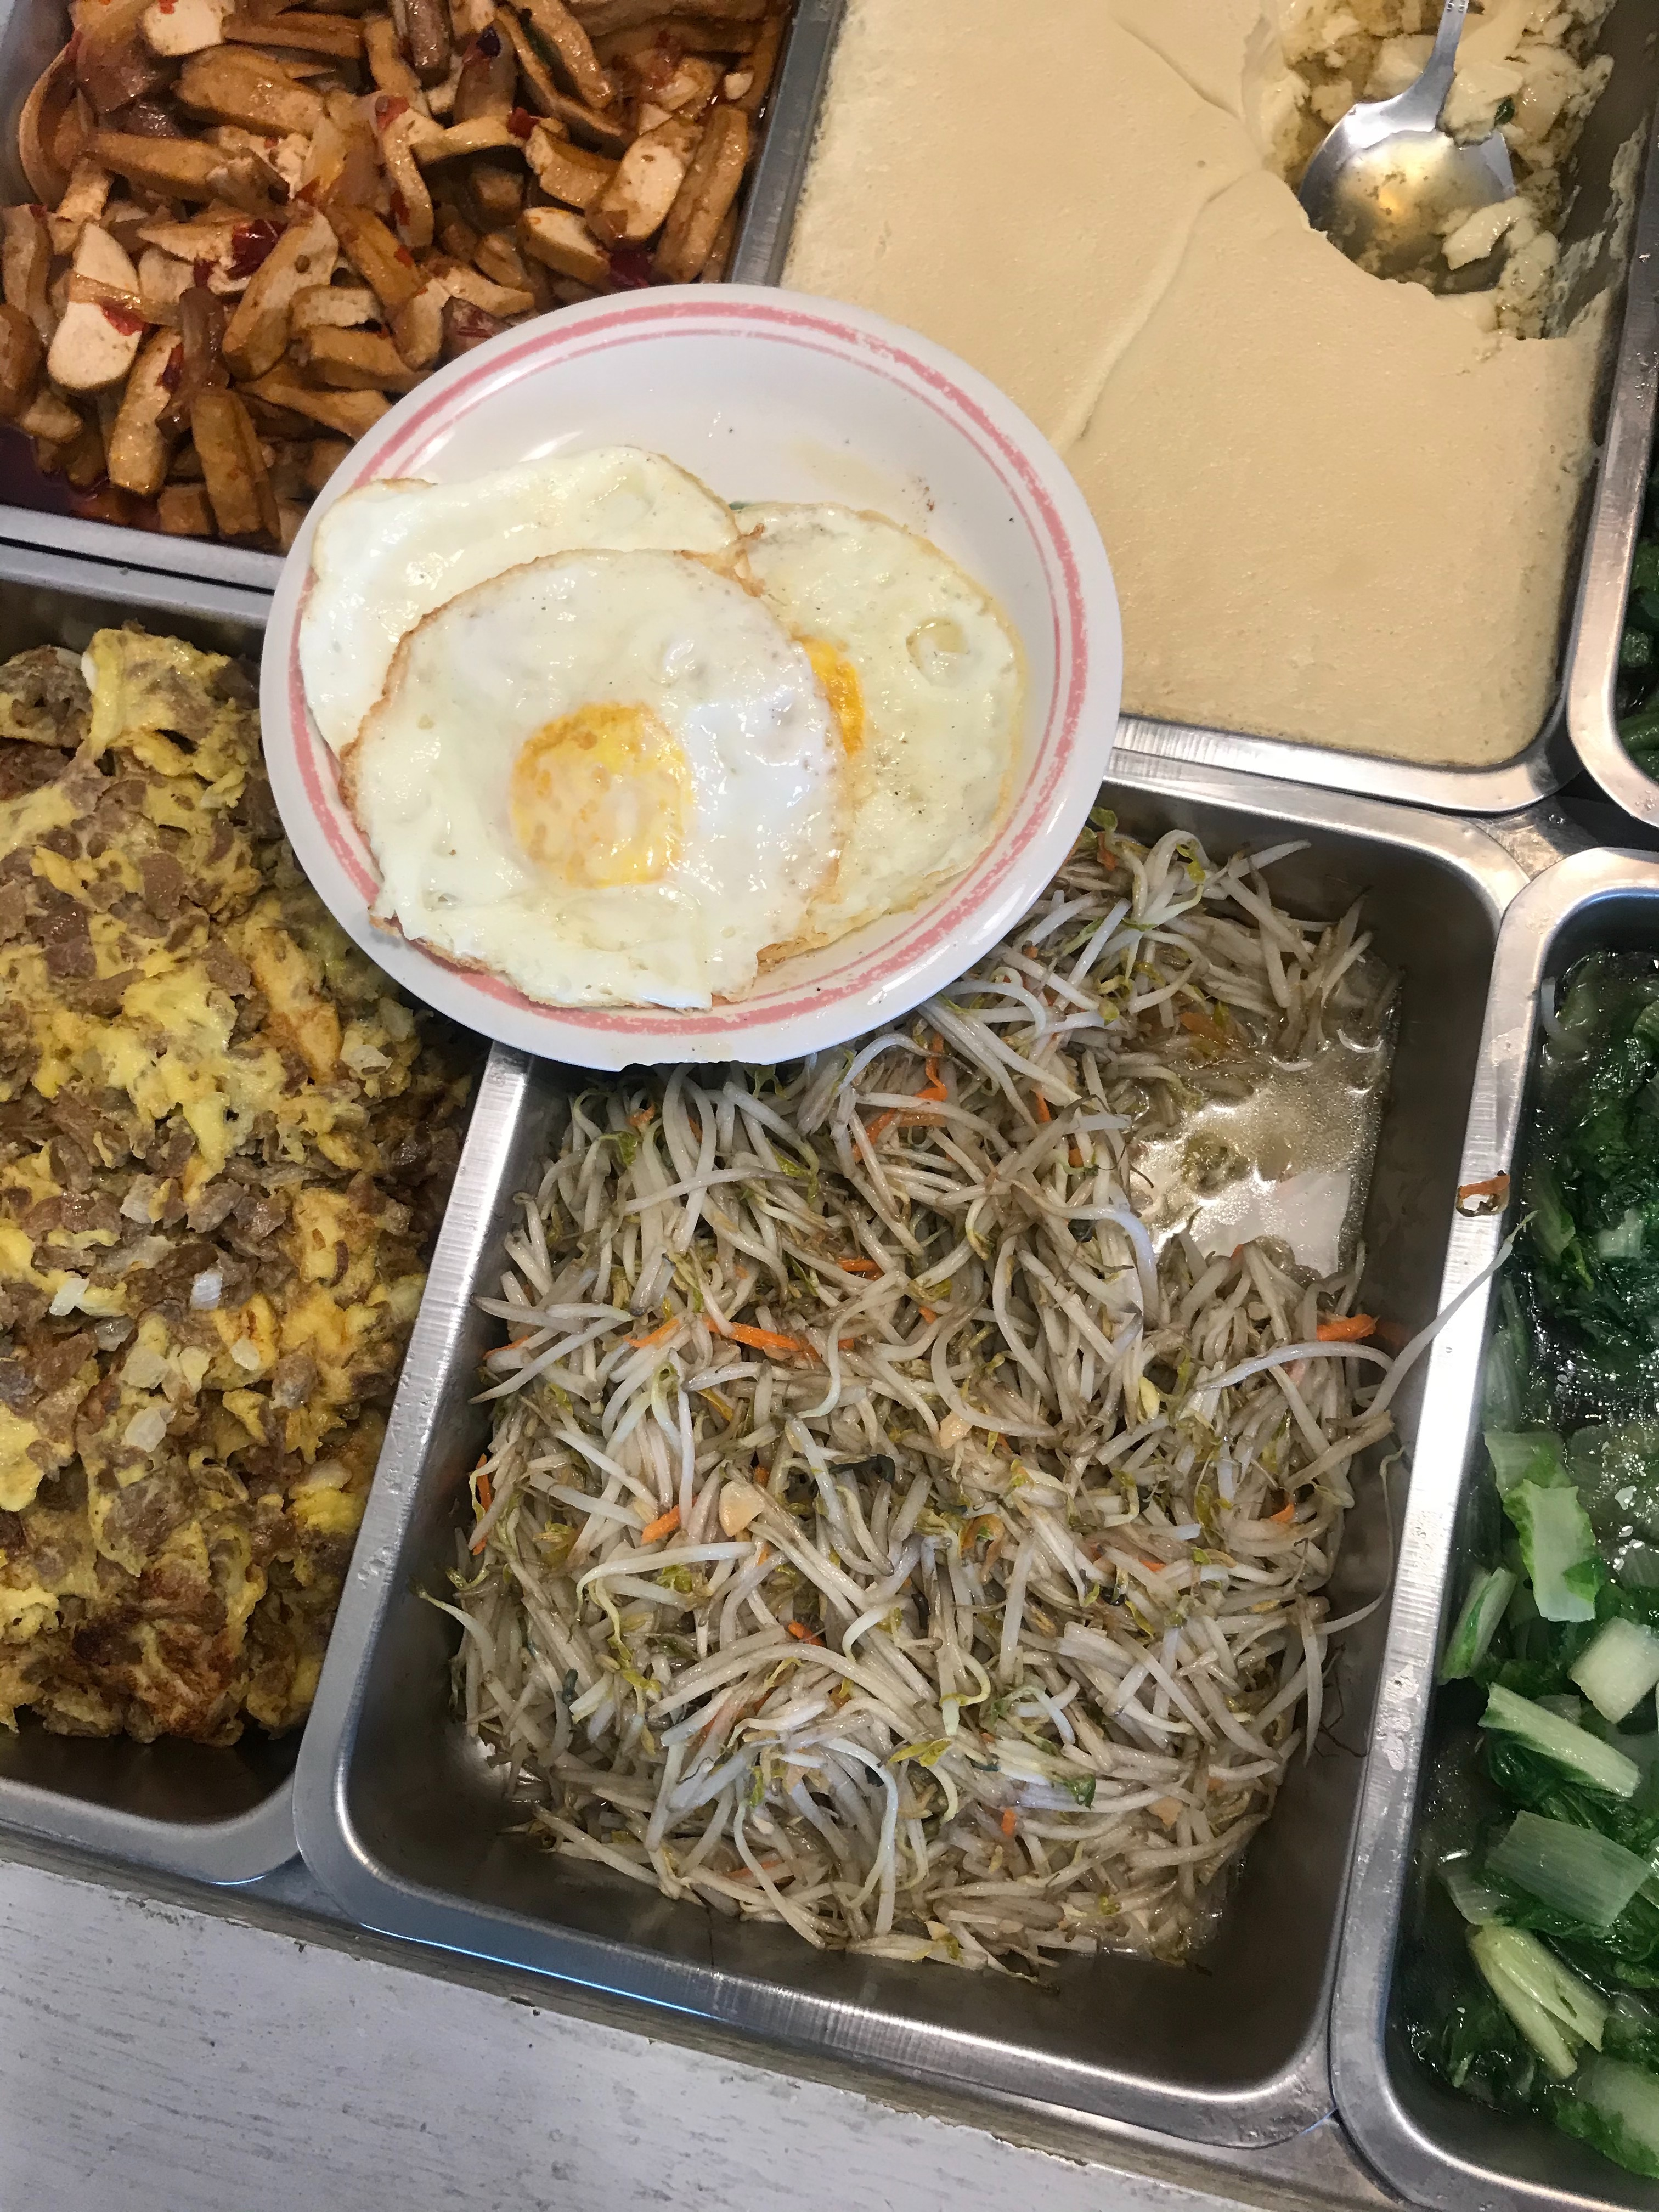fried_eggs: (326, 469, 971, 998)
mung_bean_sprouts: (584, 914, 1270, 1916)
